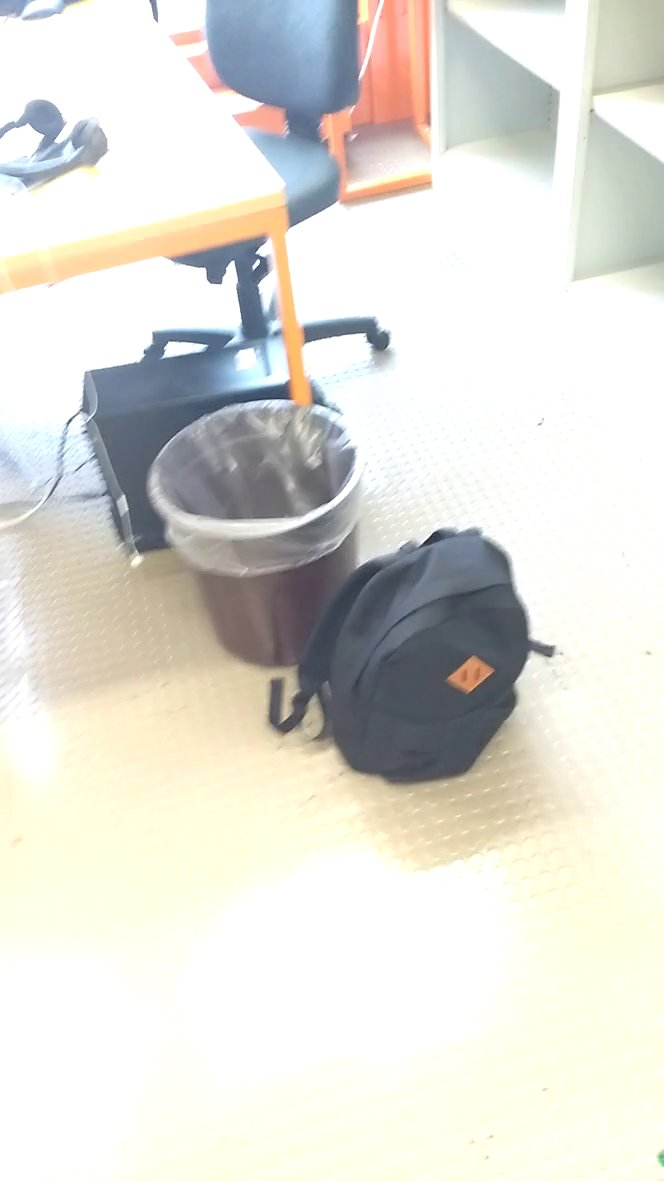bag: (253, 517, 563, 792)
bin: (141, 394, 374, 674)
chair: (132, 1, 396, 395)
